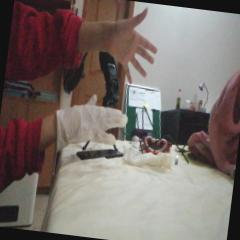gloved: (53, 88, 130, 147)
not-gloved: (88, 0, 164, 86)
